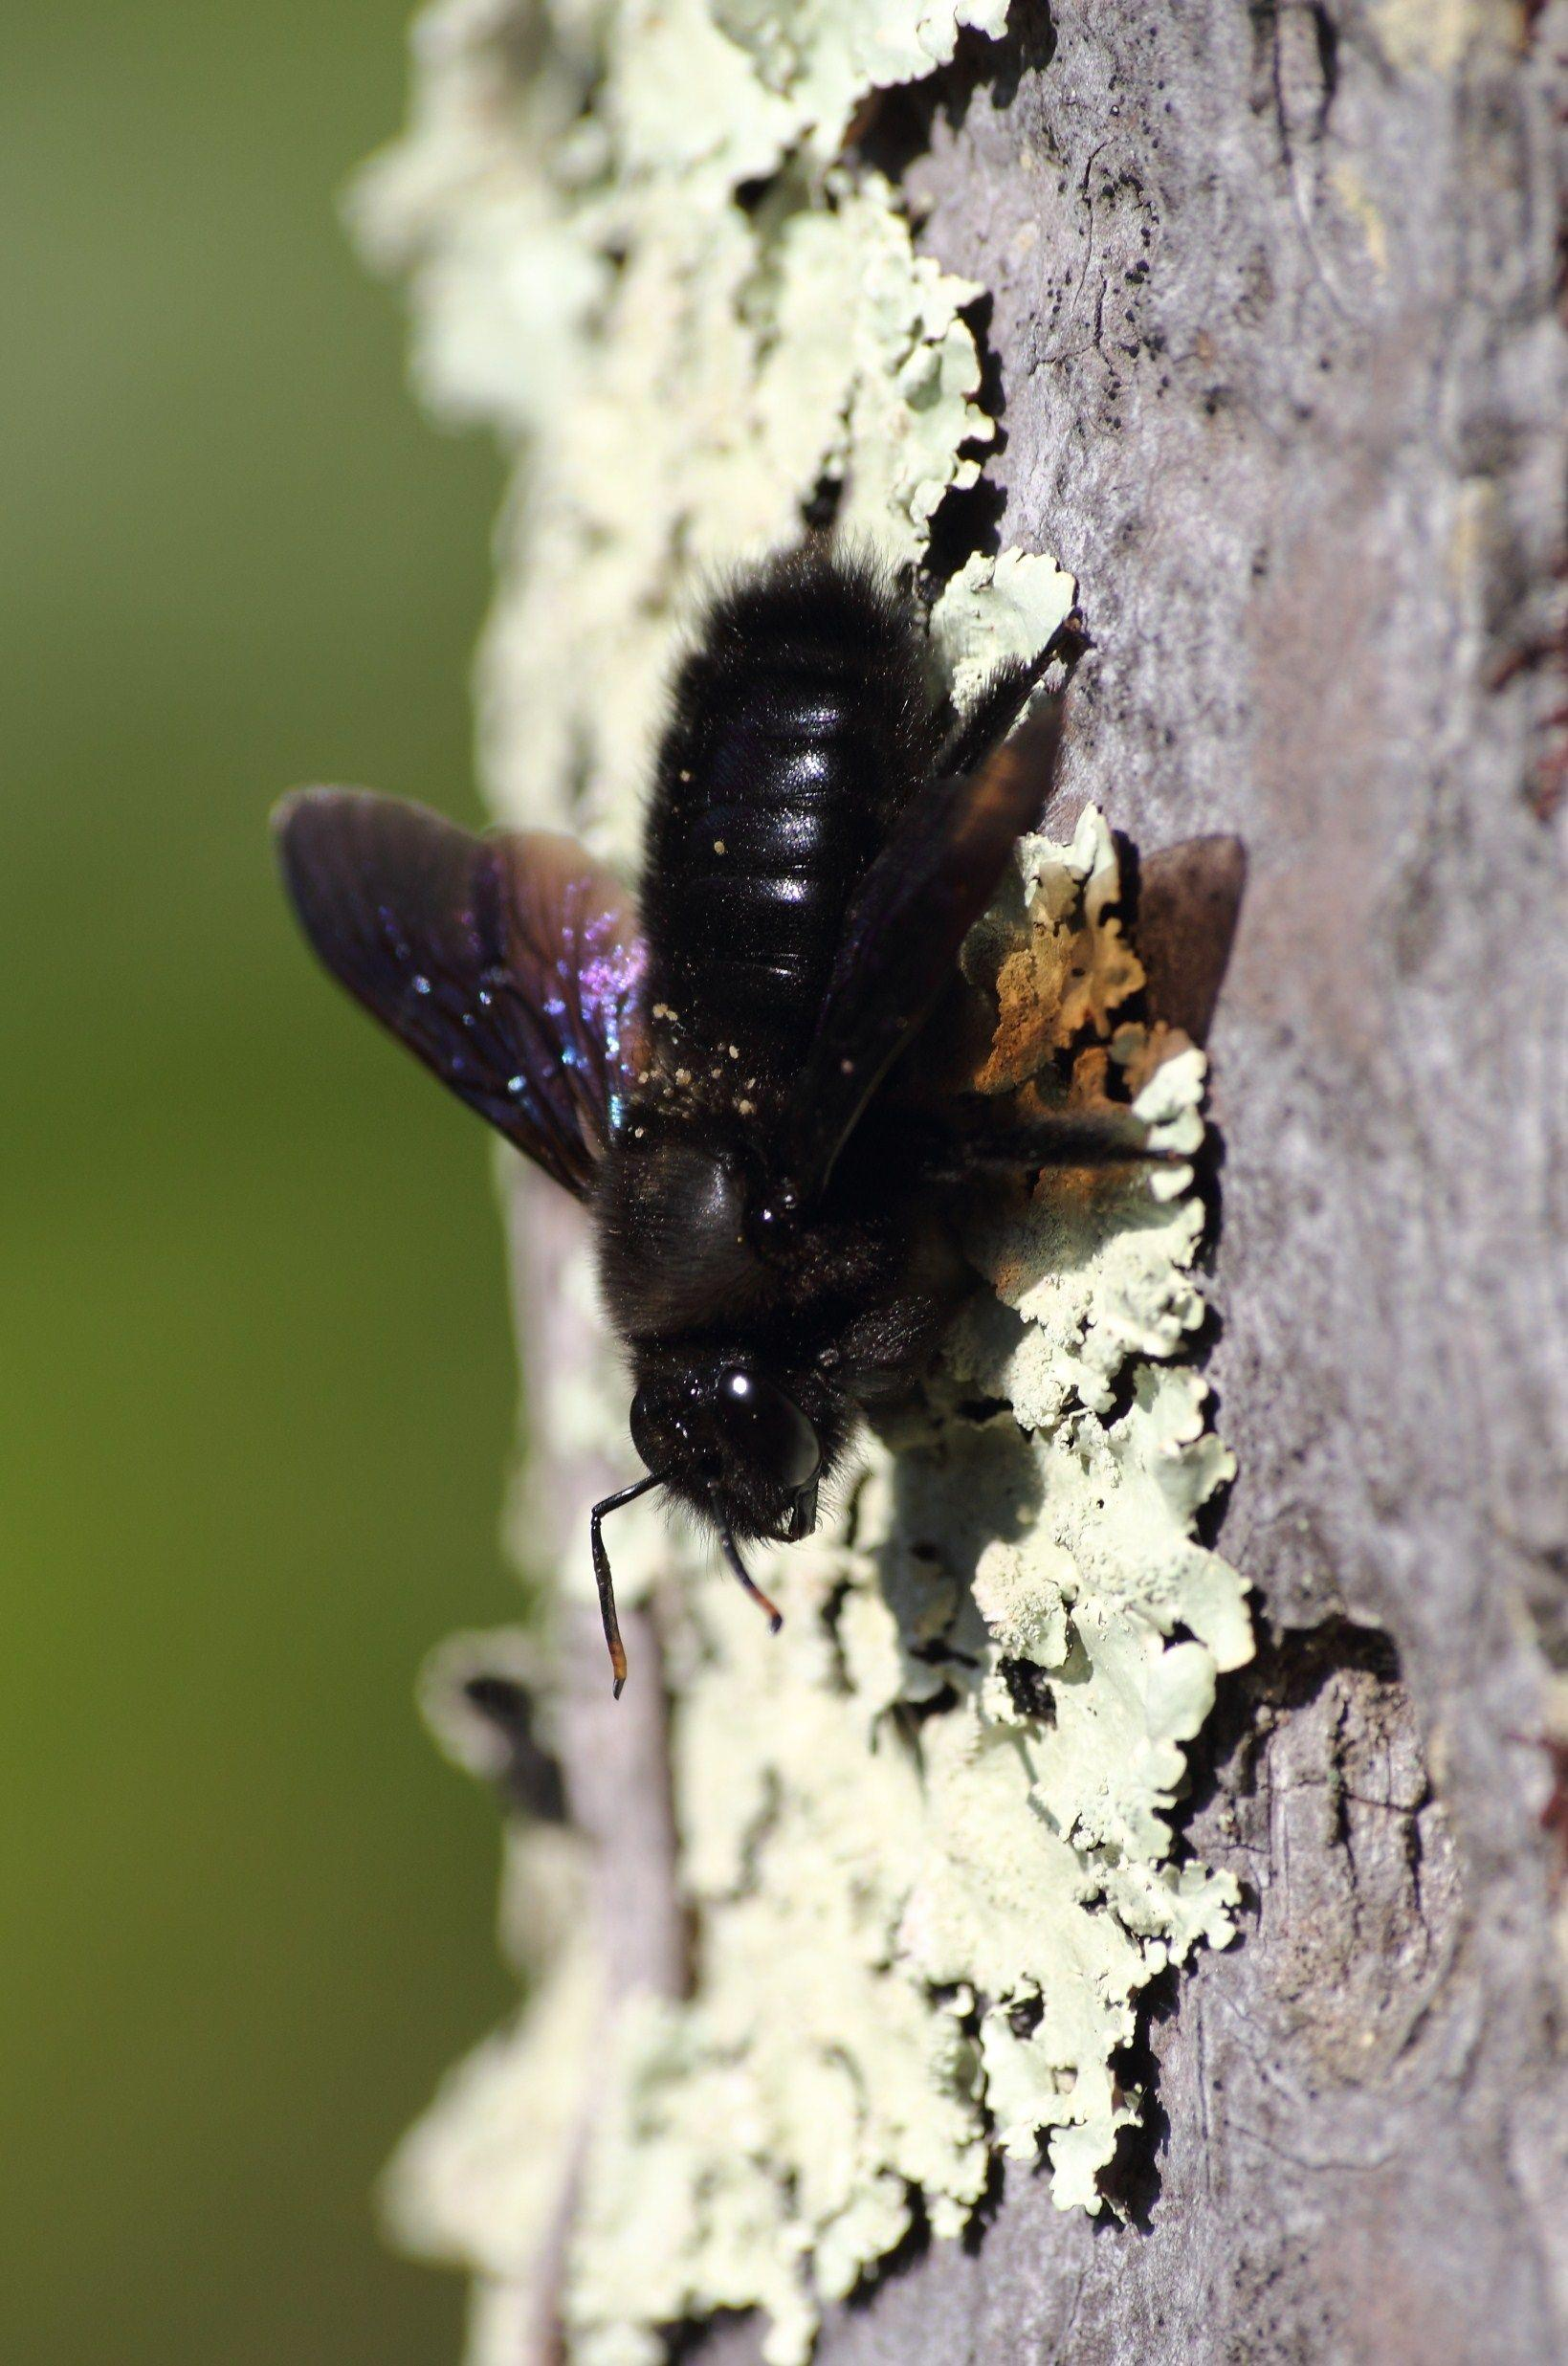Xylocopa: (252, 530, 1195, 1652)
